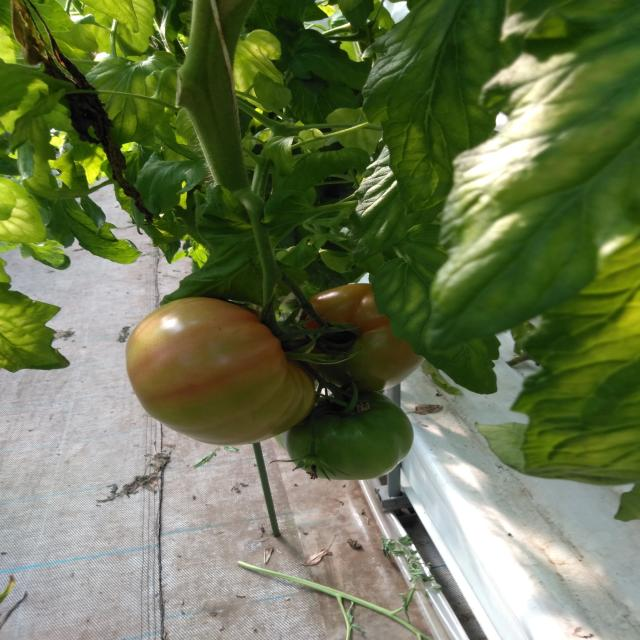sari: (99, 271, 447, 431)
